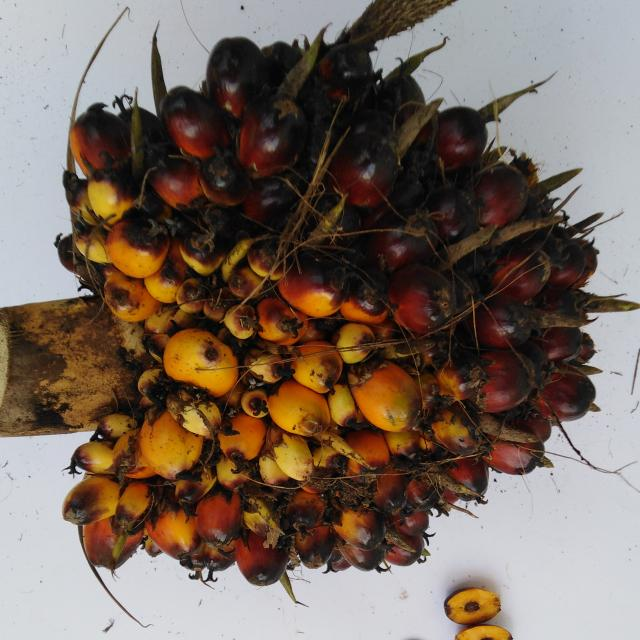FFB: (68, 44, 602, 580)
